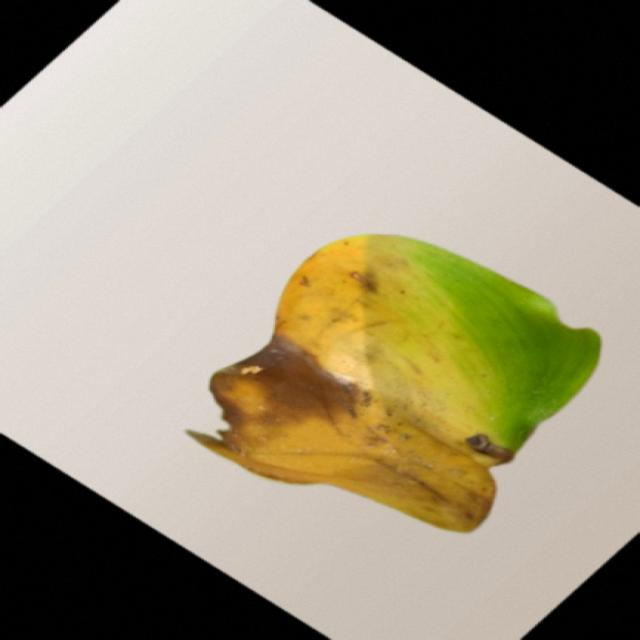daun berpenyakit kuning: (190, 235, 600, 531)
